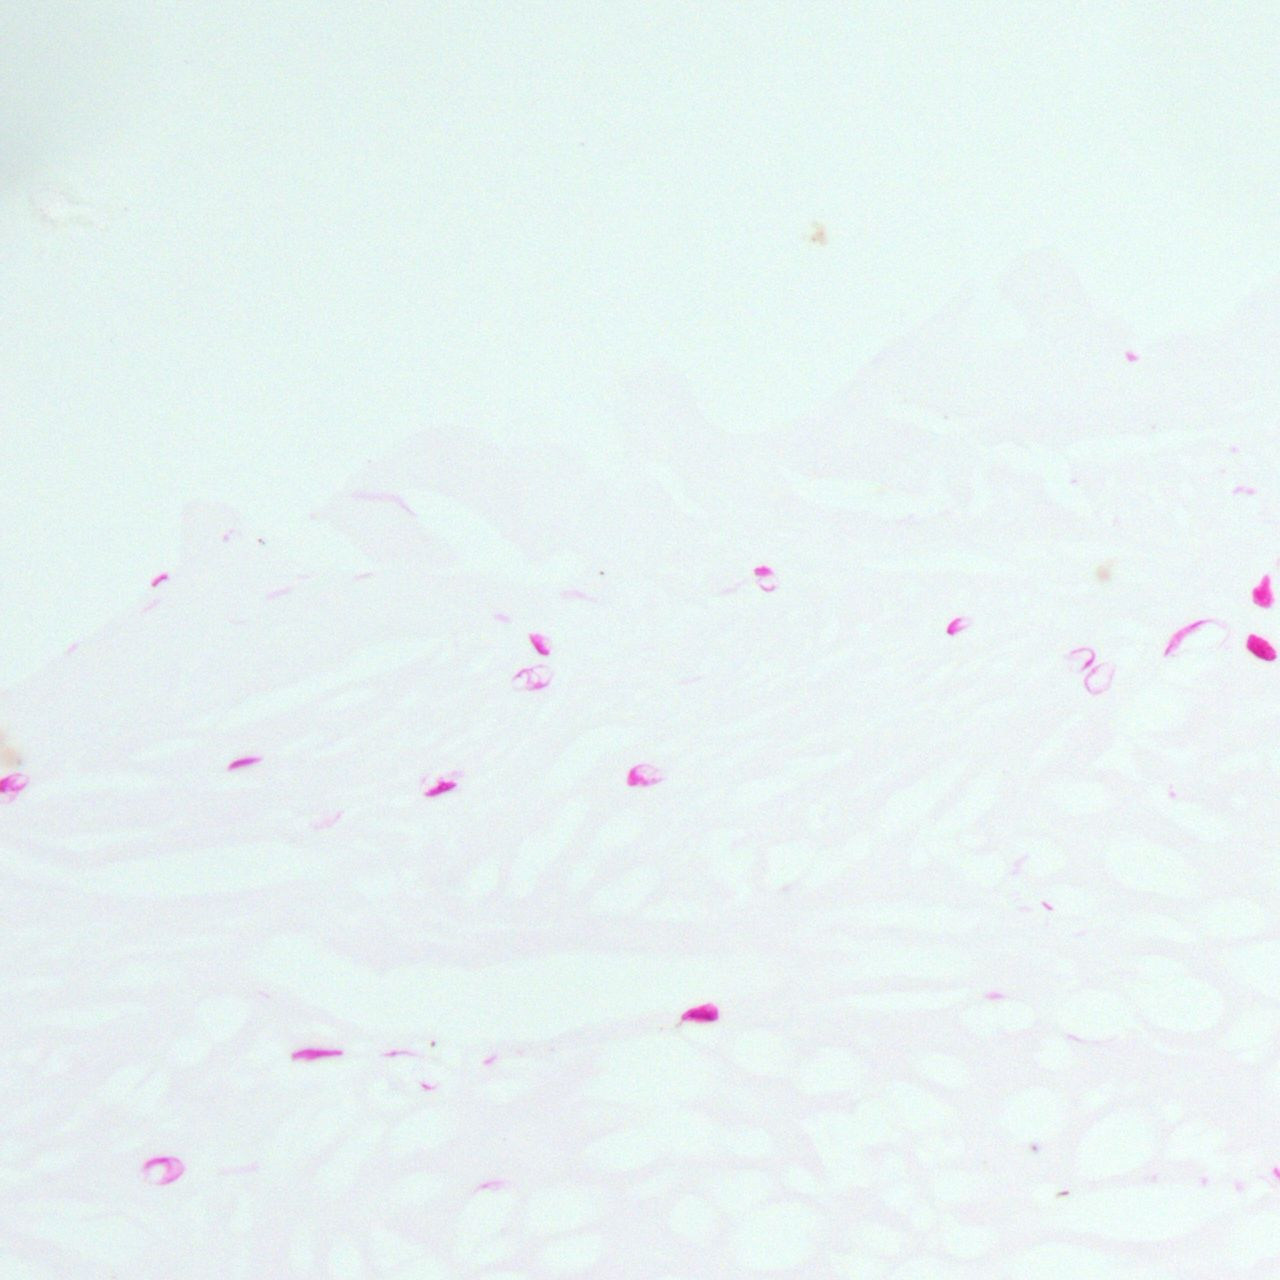nucleus-FG: (420, 776, 459, 801), (222, 750, 263, 774), (527, 629, 551, 658), (682, 1005, 719, 1022), (290, 1048, 342, 1060)
